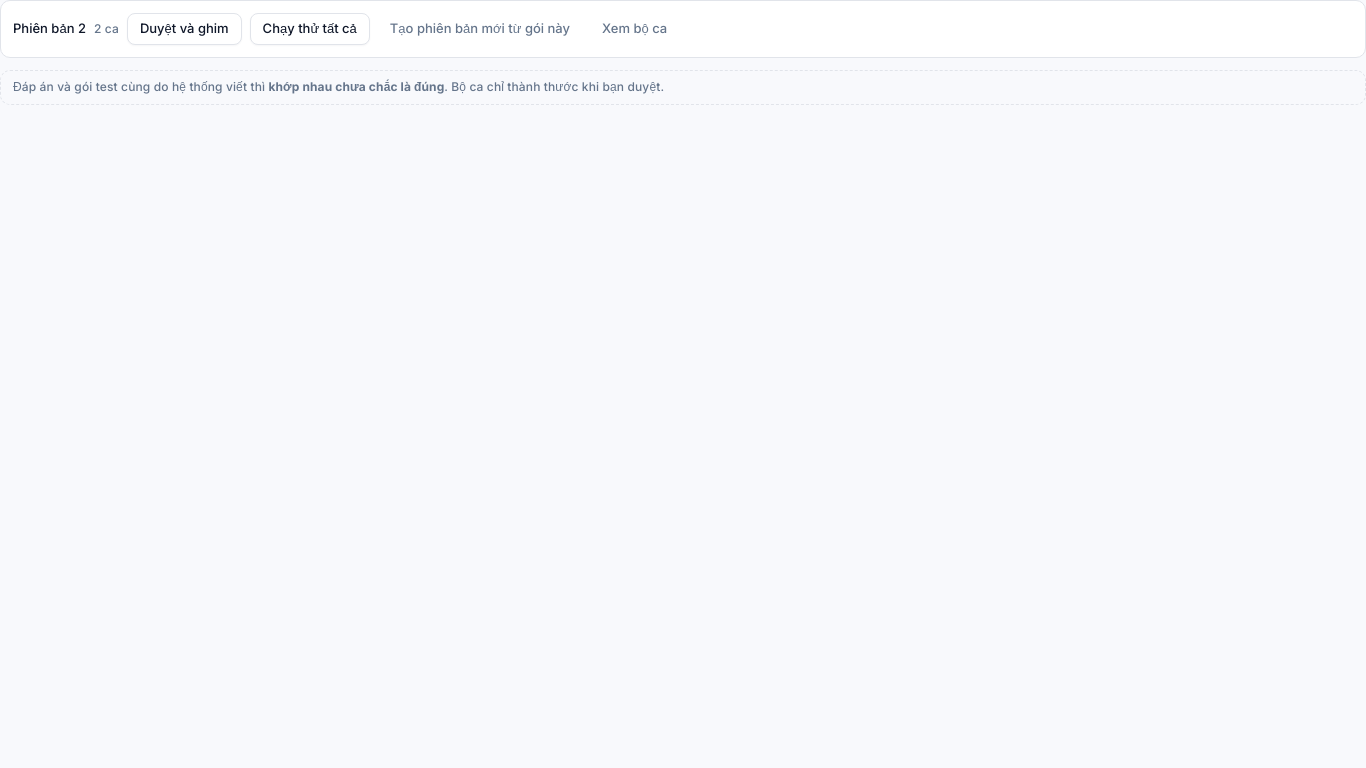
TestBundleList — duyệt và ghim gộp › a bundle that is not approved offers ONE "Duyệt và ghim" button that opens the review dialog, no bare "Duyệt"
The image size is (1366, 768).
What coordinates should you click on to do the following:
click the button "Duyệt và ghim"
I would click on:
 (184, 29)
Its box is [127,13,242,45].
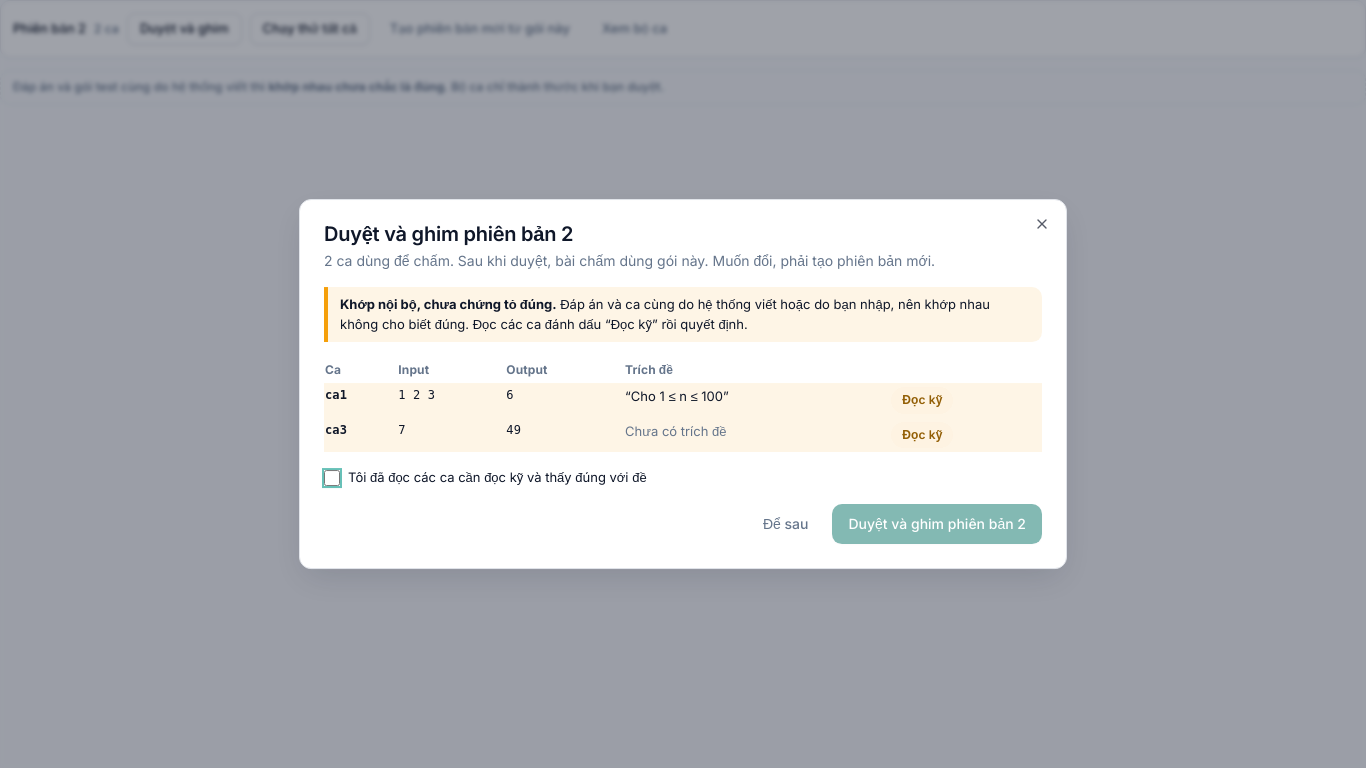
Now the dialog shows "phiên bản 2", box [299,199,1067,569]
